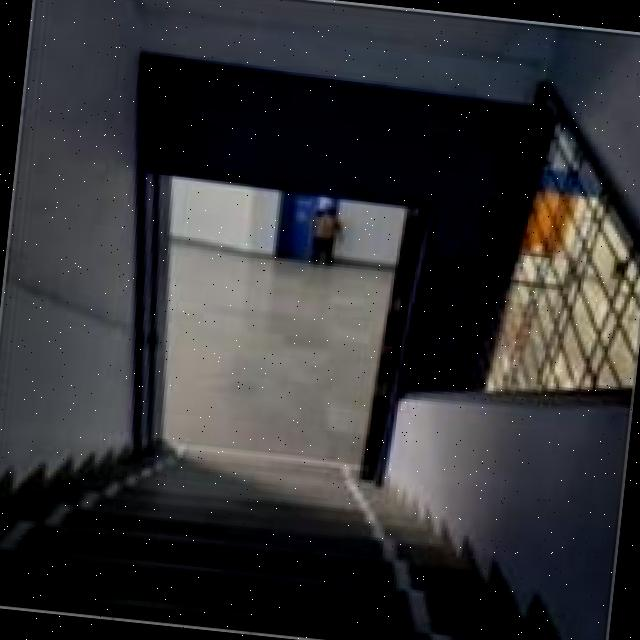stairs: (0, 295, 634, 640)
